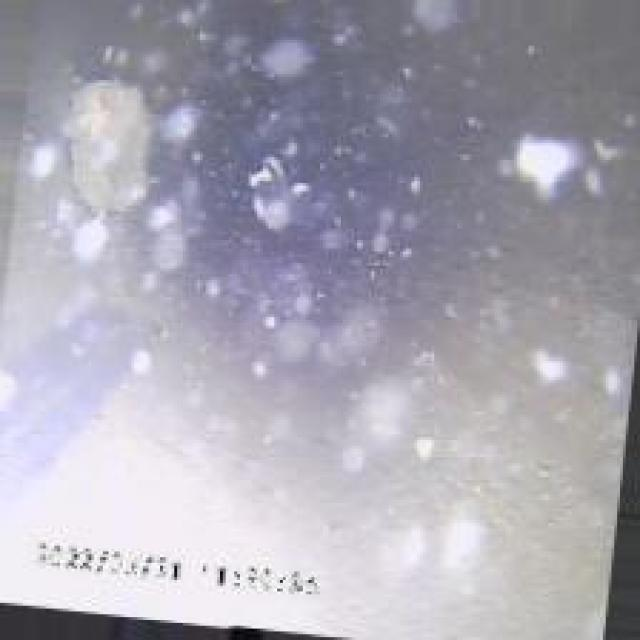stone: (57, 74, 152, 214)
